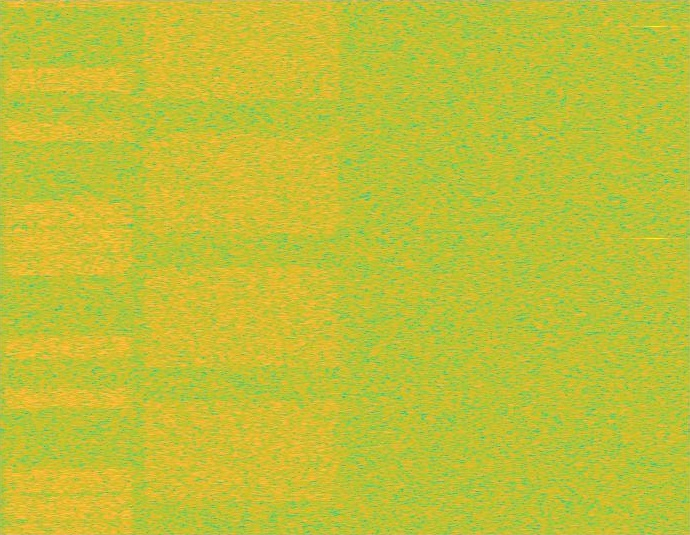5G: (138, 0, 345, 534)
LTE: (0, 0, 138, 534)
Radar: (649, 0, 662, 534)
